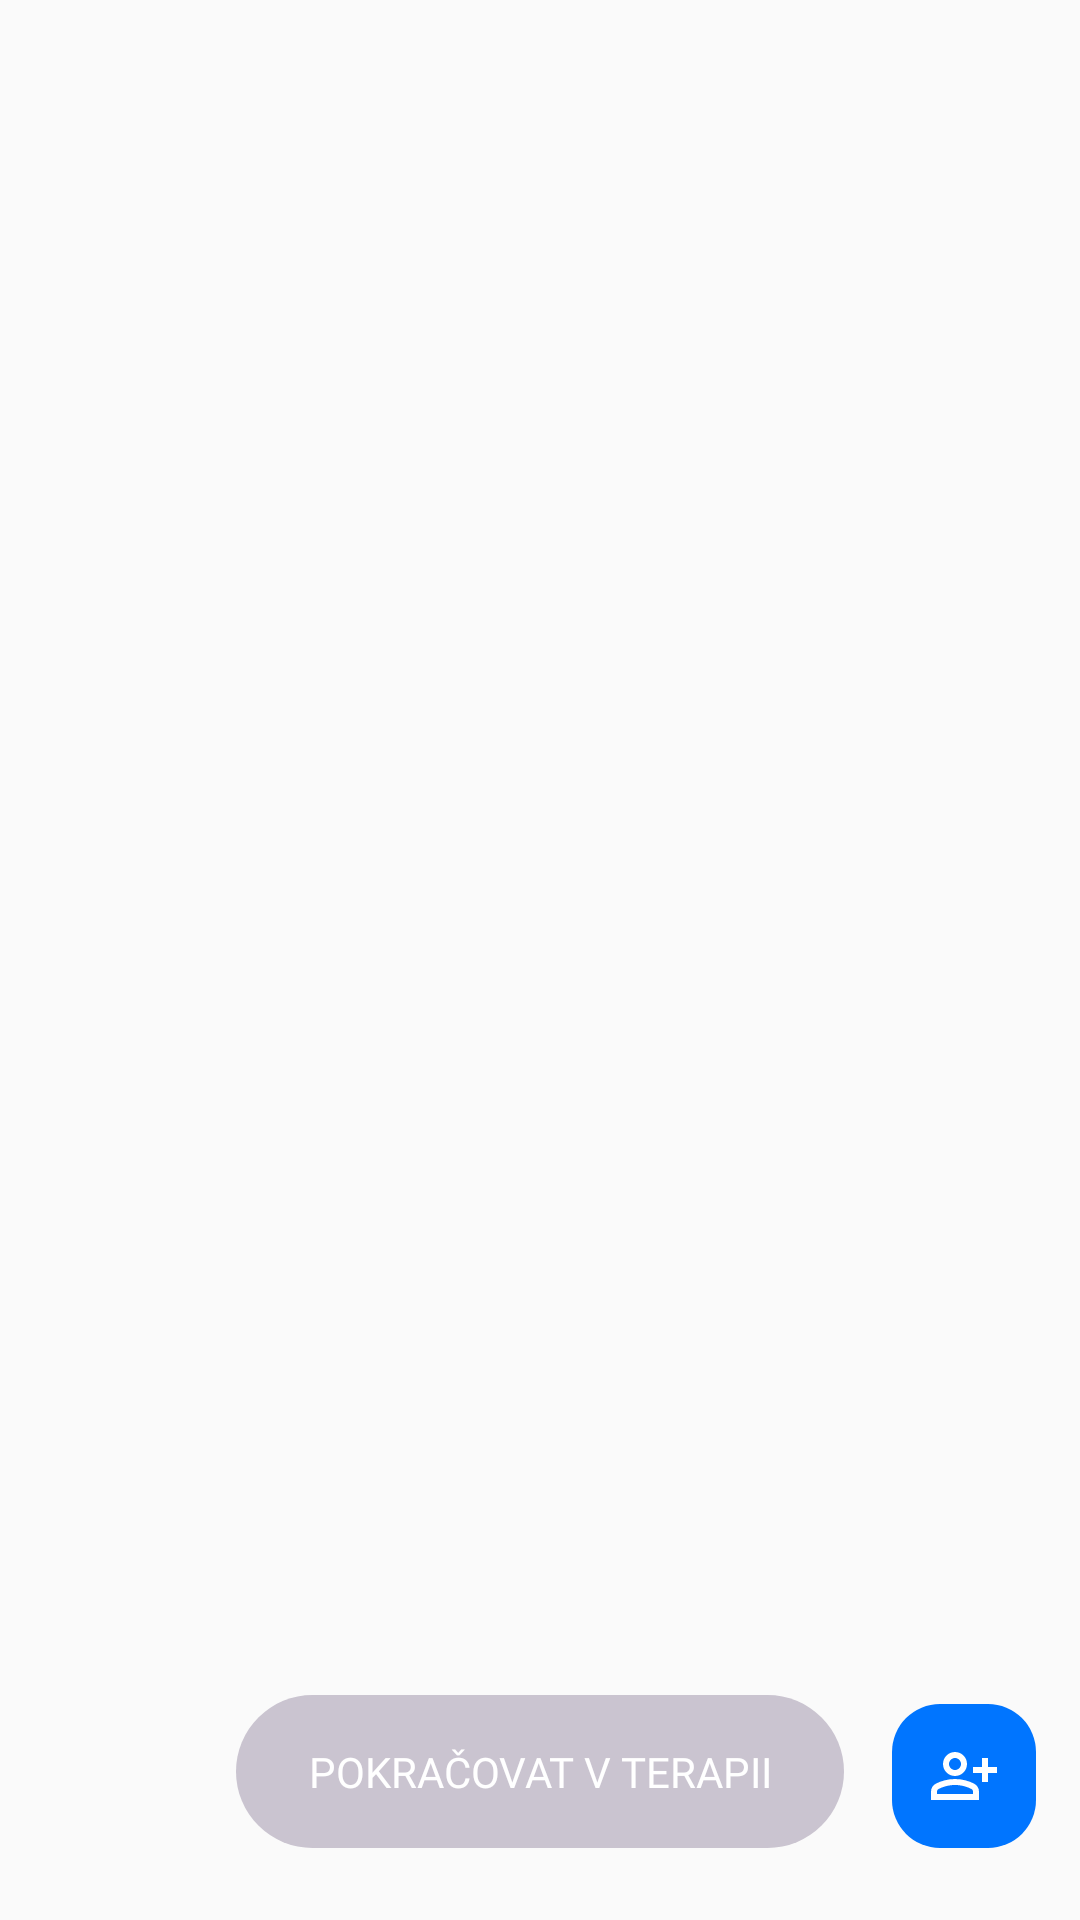

Point at icon controls on the screen. Image size 1080*1920, points as (x,y).
person add: (964,1776)
